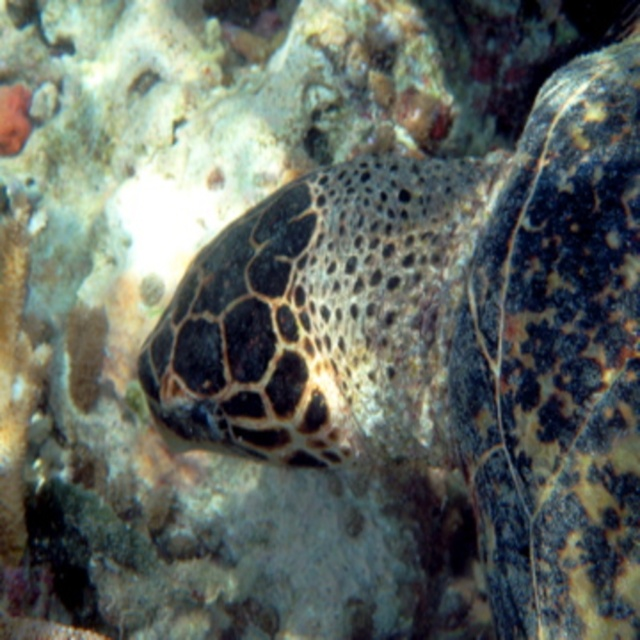Sea turtle: (137, 31, 638, 638)
